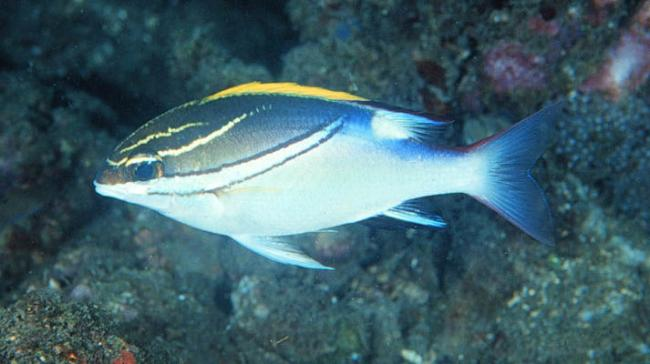fish: (92, 81, 568, 271)
